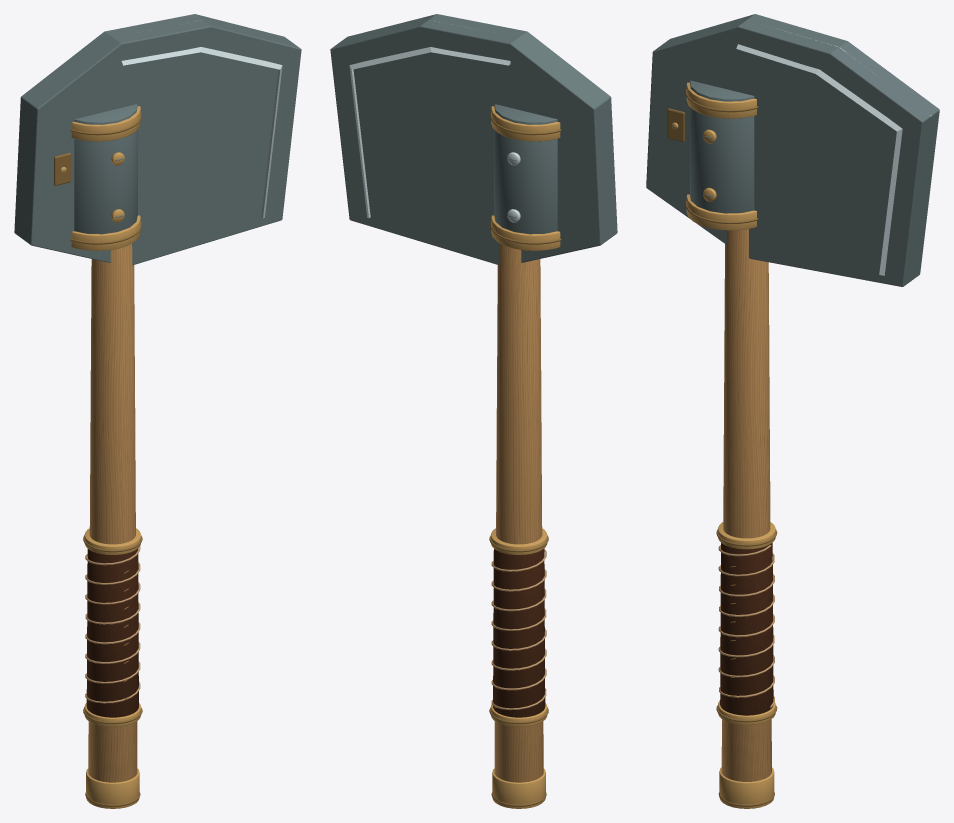
The model's file is axe.glb.
3 renders of one model, left to right at view 1: azimuth 30°, elevation 25°; view 2: azimuth 150°, elevation 25°; view 3: azimuth 330°, elevation 25°, orthographic. The views are drawn at different scales.
Visible parts, largest first — view 1: Render_axe; view 2: Render_axe; view 3: Render_axe.
Part boxes in pixels (bbox=[...]): Render_axe: bbox=[14, 14, 301, 808]; Render_axe: bbox=[330, 14, 617, 808]; Render_axe: bbox=[646, 14, 939, 808].
Bounding box in the file's own units: 0.4535 × 1.22 × 0.1298.
8 materials, 3 textured.
